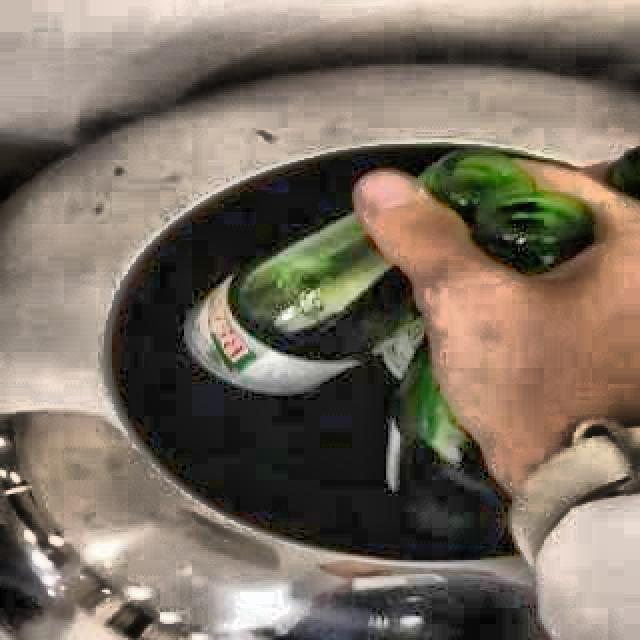glass: (185, 215, 511, 536), (419, 149, 595, 276)
